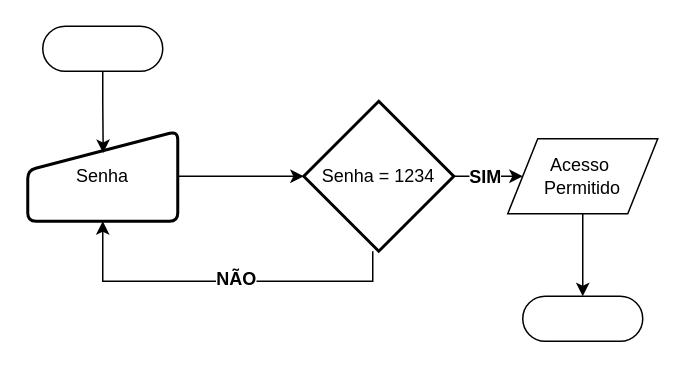
Some shapes in this 684 by 368 pixel diagram are drawn without their labels. The box of each missing label's shape, as (x1, y1, x2, y2) in pixels:
Fim: (521, 295, 643, 341)
Inicio: (41, 25, 163, 71)
